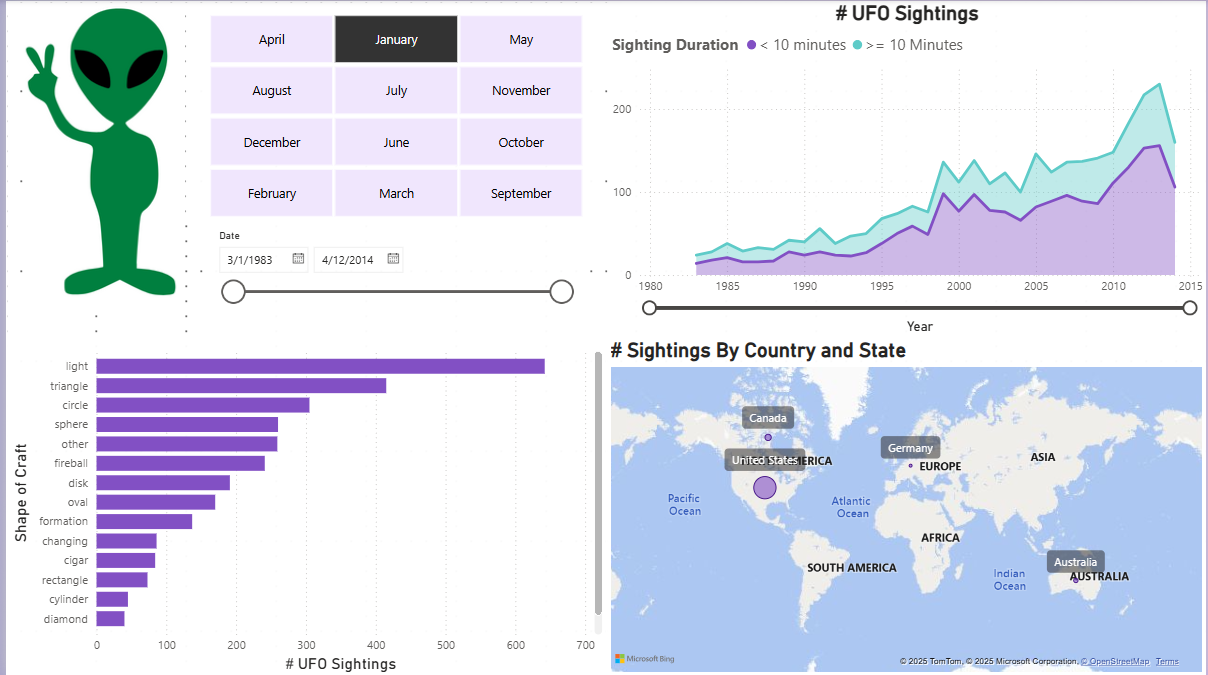

This screenshot's page, from the dashboard's own definition file:
{"tool":"powerbi","page":{"name":"Dashboard","canvas":[1280,720],"ordinal":6},"visuals":[{"type":"map","title":"# Sightings By Country and State","fields":{"Category":["UFO Sightings.country_name","UFO Sightings.state"],"Size":["UFO Sightings.# sightings"]},"box":[639.6,359.5,641.2,361.1],"z":0},{"type":"stackedAreaChart","title":"# UFO Sightings","fields":{"Category":["UFO Sightings.Year"],"Y":["UFO Sightings.# sightings"],"Series":["UFO Sightings.sighting_duration_category"]},"box":[641.2,0,639.6,359.5],"z":1000},{"type":"barChart","fields":{"Category":["UFO Sightings.shape"],"Y":["UFO Sightings.# sightings"]},"box":[0,359.5,641.2,361.1],"z":2000},{"type":"slicer","fields":{"Values":["UFO Sightings.Month Name"]},"box":[191.9,8.6,446.9,229.2],"z":3000},{"type":"slicer","fields":{"Values":["UFO Sightings.Date"]},"box":[214.9,237.8,399.6,121.8],"z":4000},{"type":"image","box":[10,0,181.9,335.2],"z":5000}]}

Visuals, with their boxes in screenshot pixels (x1, y1, x2, y2), scaled from the page's 1280x720 canvas onto the 1208x675 screenshot:
"# Sightings By Country and State" map: (left=604, top=337, right=1207, bottom=674)
"# UFO Sightings" stackedAreaChart: (left=605, top=0, right=1207, bottom=337)
barChart - UFO Sightings.shape x UFO Sightings.# sightings: (left=0, top=337, right=605, bottom=674)
slicer - UFO Sightings.Month Name: (left=181, top=8, right=603, bottom=223)
slicer - UFO Sightings.Date: (left=203, top=223, right=580, bottom=337)
image: (left=9, top=0, right=181, bottom=314)
